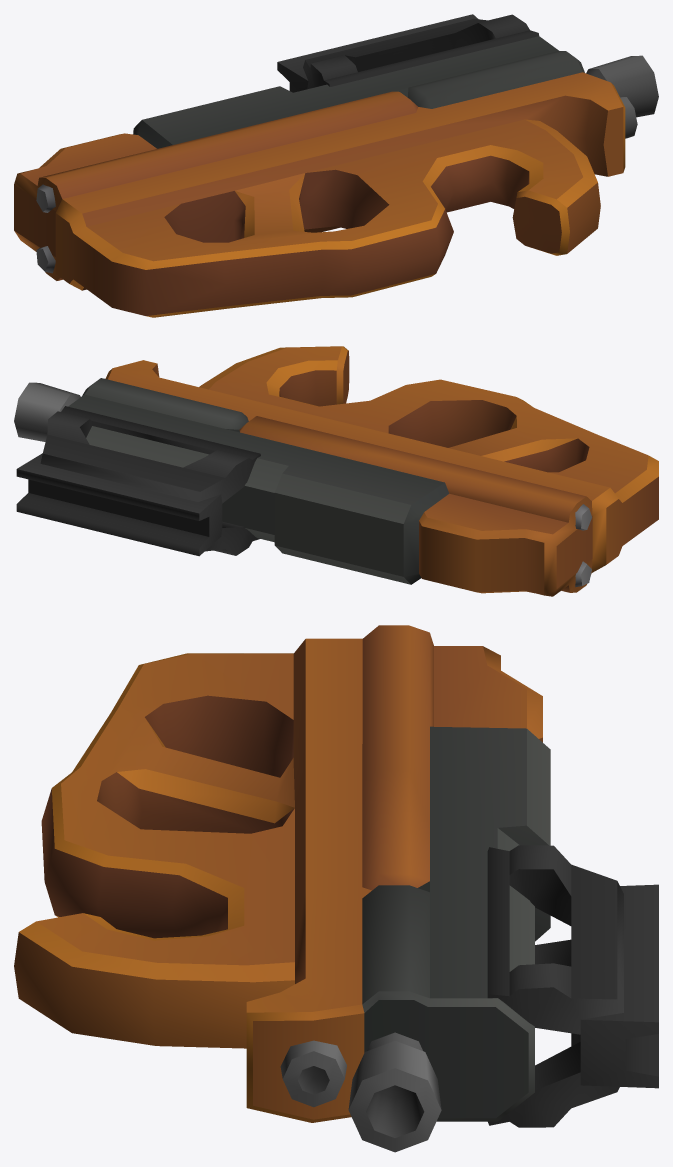
The model's file is Weapon_P90.fbx.
3 renders of one model, top to bottom at view 1: azimuth 30°, elevation 25°; view 2: azimuth 150°, elevation 25°; view 3: azimuth 270°, elevation 25°, orthographic. The views are drawn at different scales.
Parts seen in each view (by area): view 1: Weapon_P90RapidSMG; view 2: Weapon_P90RapidSMG; view 3: Weapon_P90RapidSMG.
Boxes of the visible parts, <box> form: Weapon_P90RapidSMG: <box>14,14,658,317</box>; Weapon_P90RapidSMG: <box>14,346,658,596</box>; Weapon_P90RapidSMG: <box>14,625,658,1152</box>.
Bounding box in the file's own units: 0.7334 × 0.1127 × 0.47.
